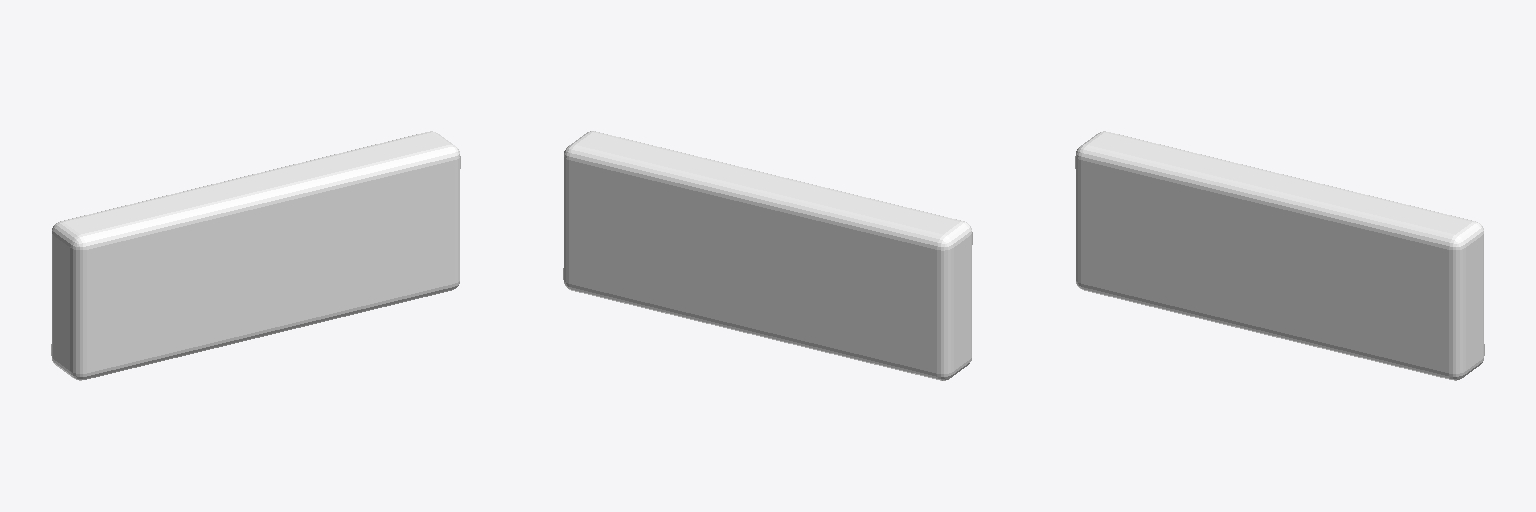
File: Dash.obj
3 renders of one model, left to right at view 1: azimuth 30°, elevation 25°; view 2: azimuth 150°, elevation 25°; view 3: azimuth 330°, elevation 25°, orthographic.
Parts seen in each view (by area): view 1: node_id374_mesh_id375; view 2: node_id374_mesh_id375; view 3: node_id374_mesh_id375.
Boxes of the visible parts, x1,y1,x2,y2 form: node_id374_mesh_id375: [51, 131, 460, 380]; node_id374_mesh_id375: [563, 131, 972, 380]; node_id374_mesh_id375: [1075, 131, 1484, 380].
Size of the model in its own units: 0.512 by 0.1828 by 0.068.